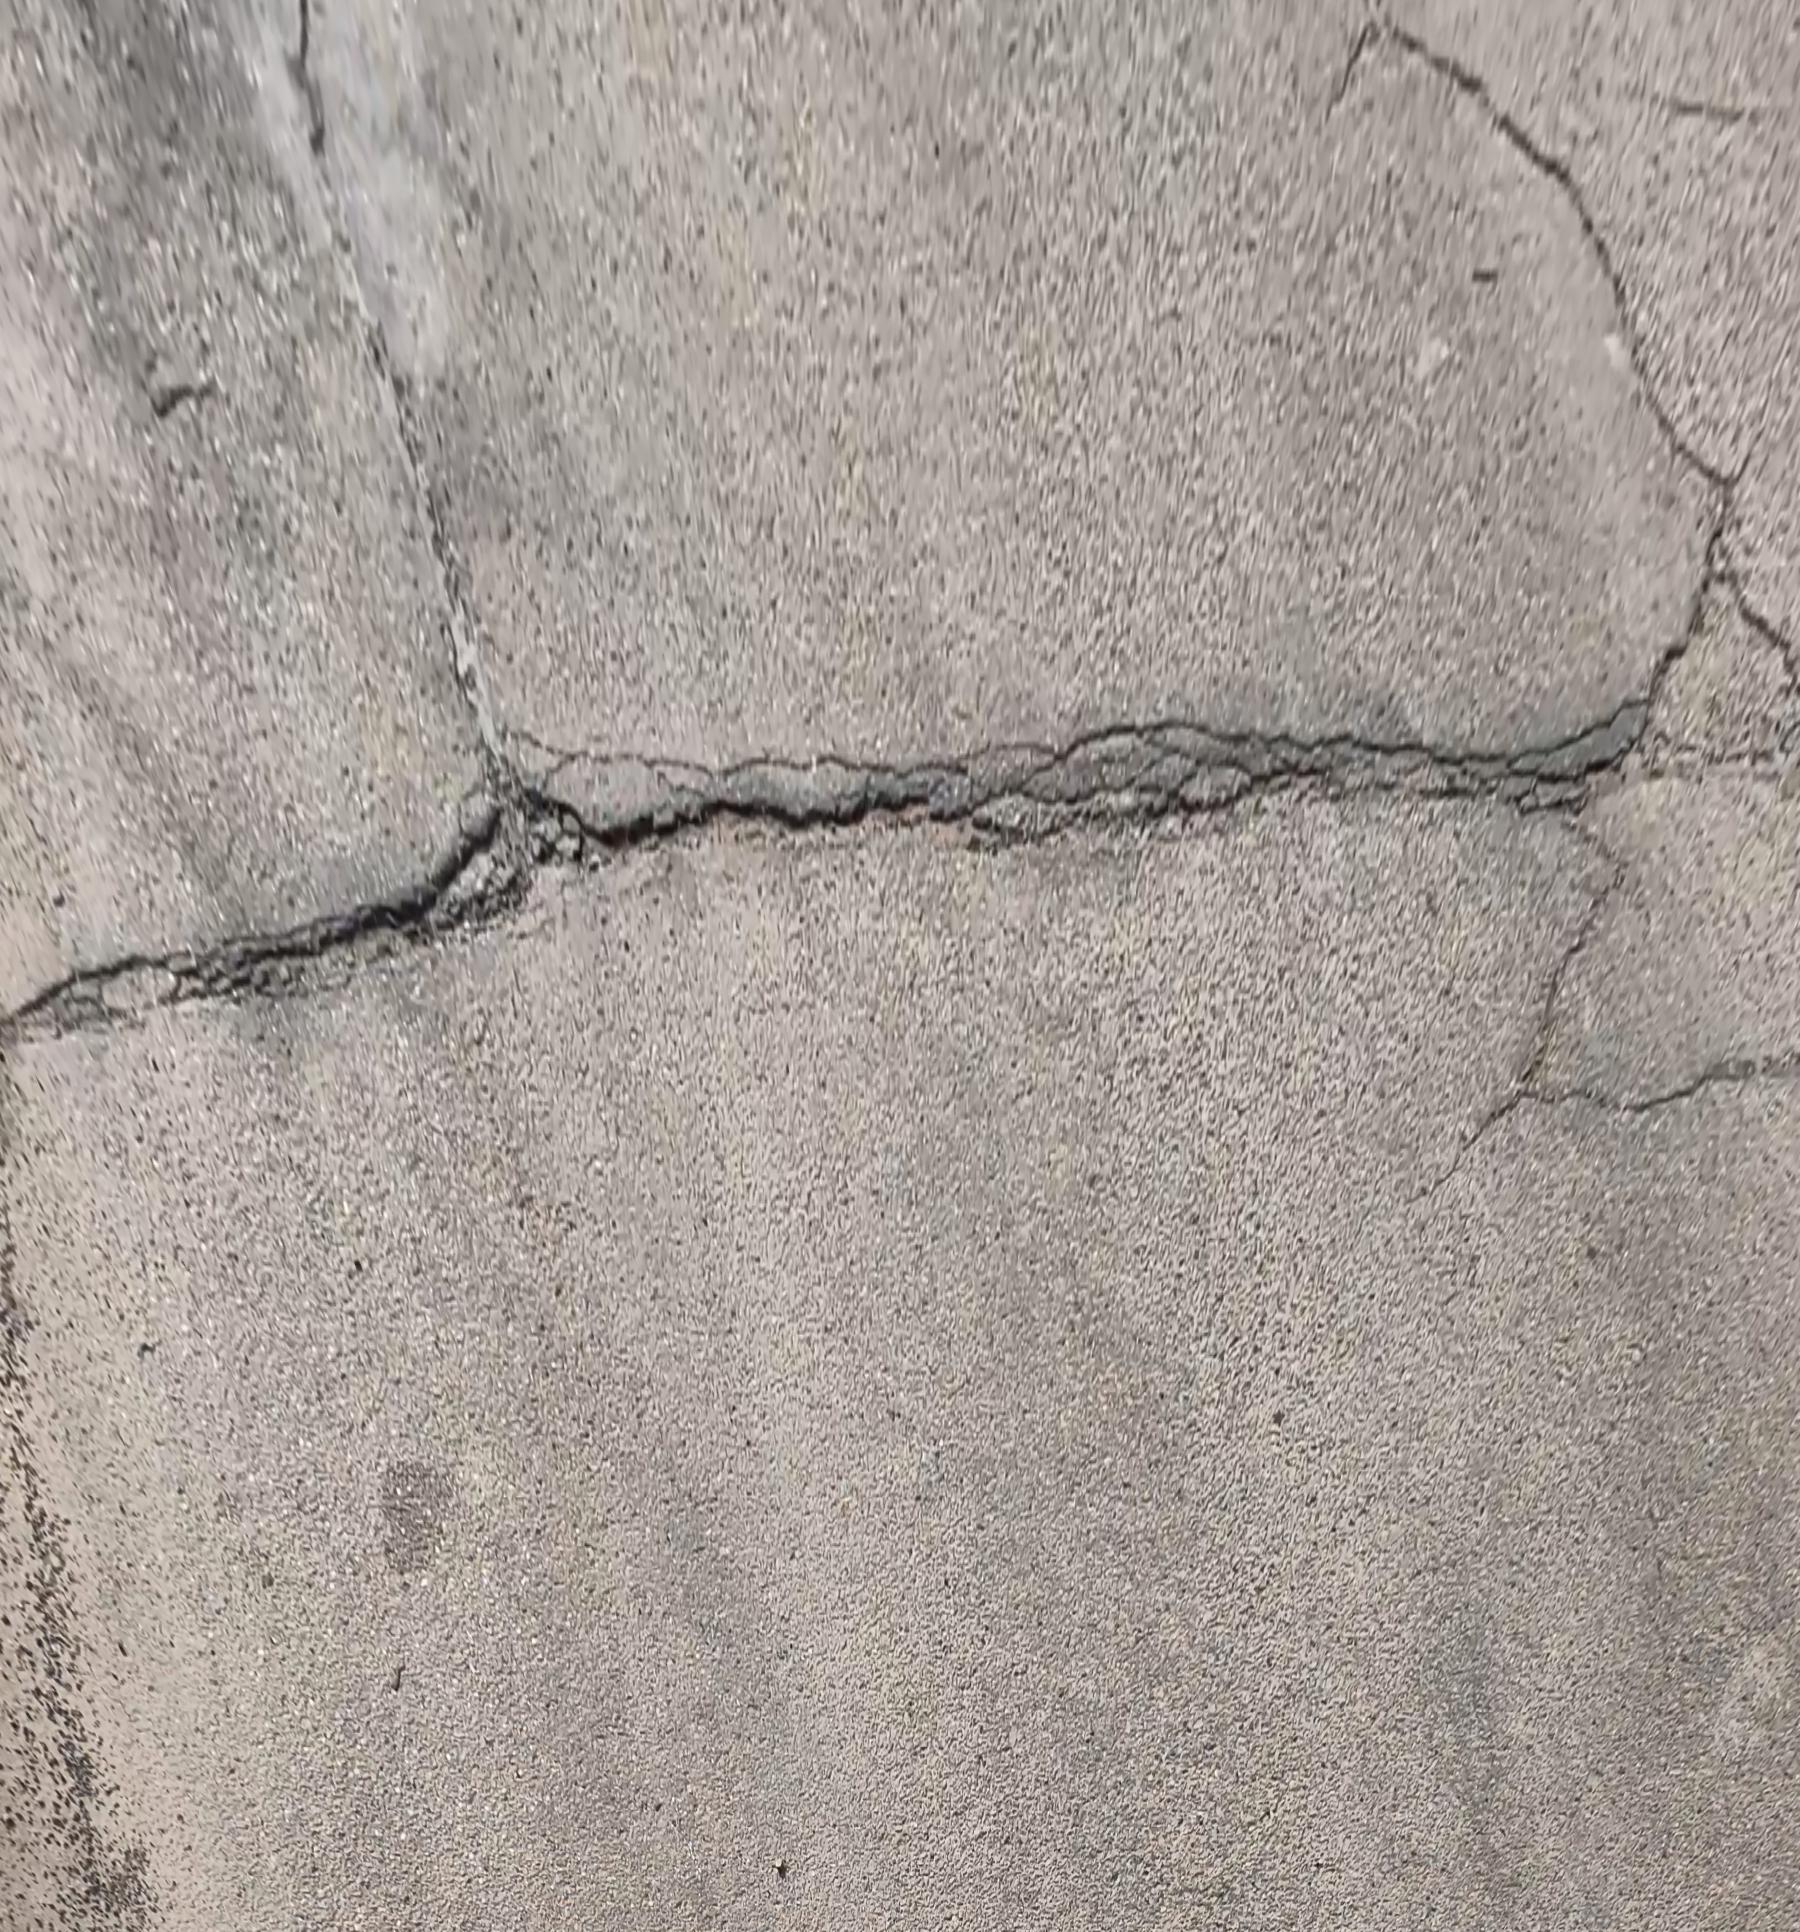pothole: (205, 790, 582, 995)
